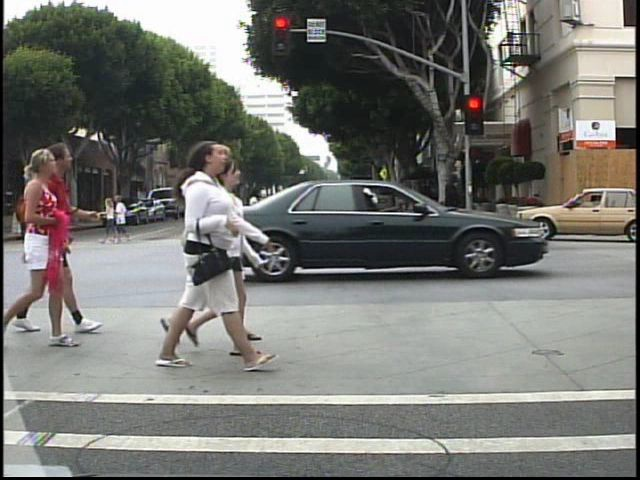person: (162, 137, 255, 380), (199, 148, 276, 352), (204, 159, 275, 368), (17, 148, 76, 352), (38, 138, 81, 336), (356, 177, 383, 241), (186, 185, 209, 248), (45, 193, 70, 248), (244, 183, 267, 241), (54, 186, 69, 241), (352, 187, 367, 223)
